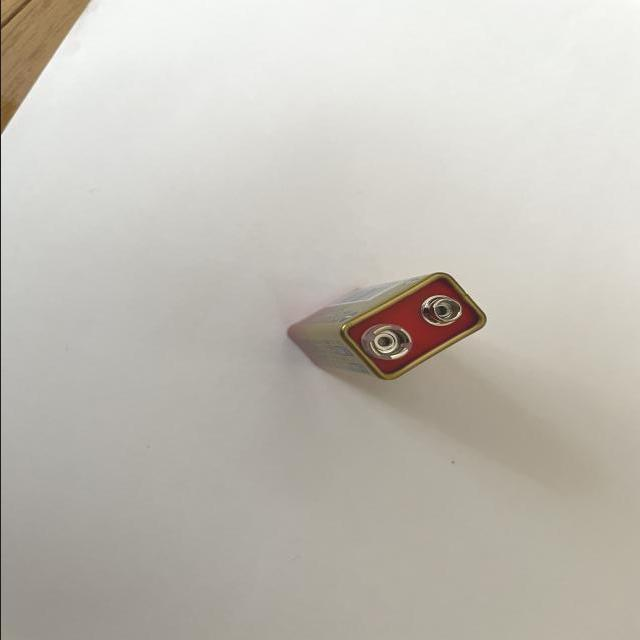9V: (286, 271, 486, 378)
